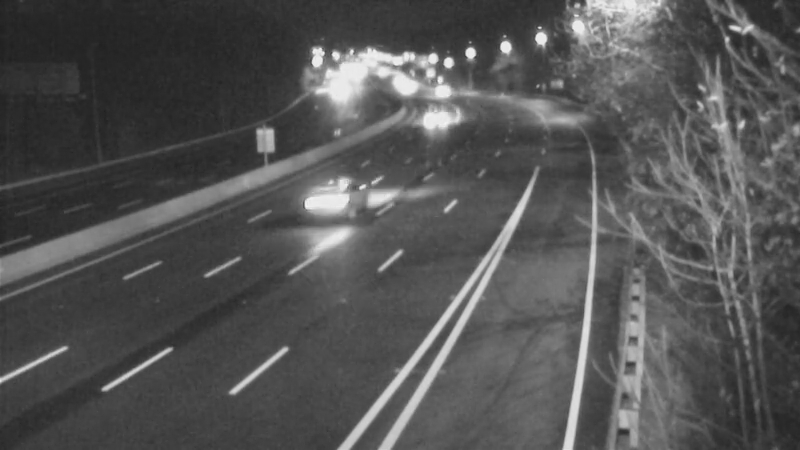vehicle: (288, 156, 368, 236), (412, 65, 462, 115), (415, 93, 465, 143)
